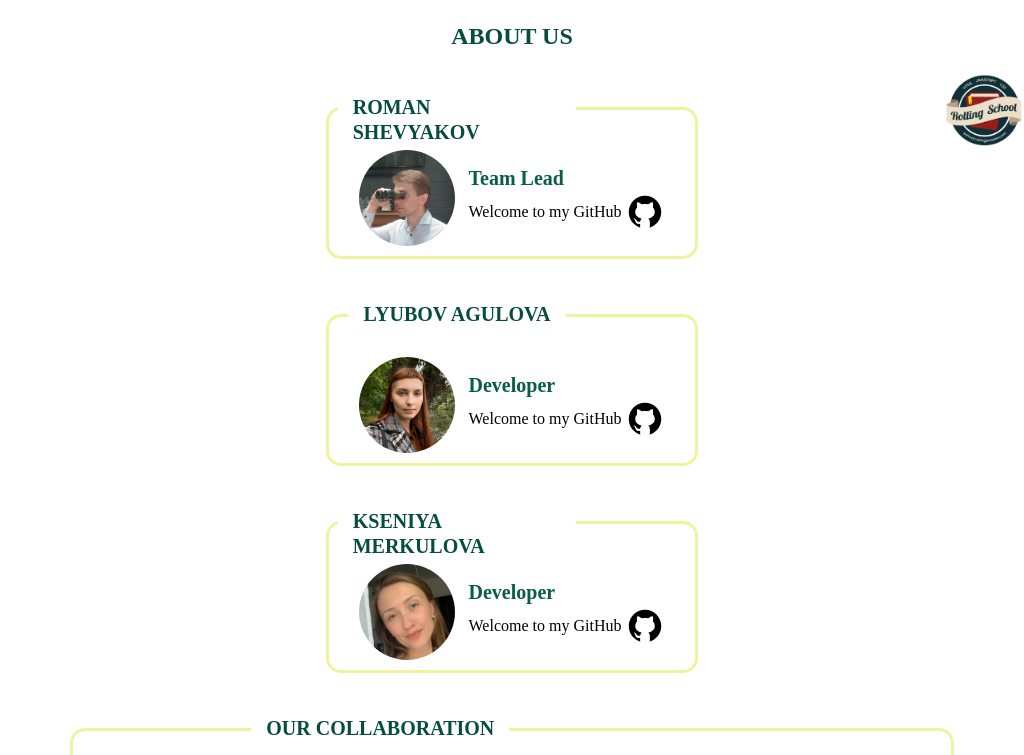
Test: AboutUs component: › should open popup
Click the picture with alt text "Lyubov Agulova" at coordinates (406, 405), box x1=358 y1=357 x2=454 y2=453
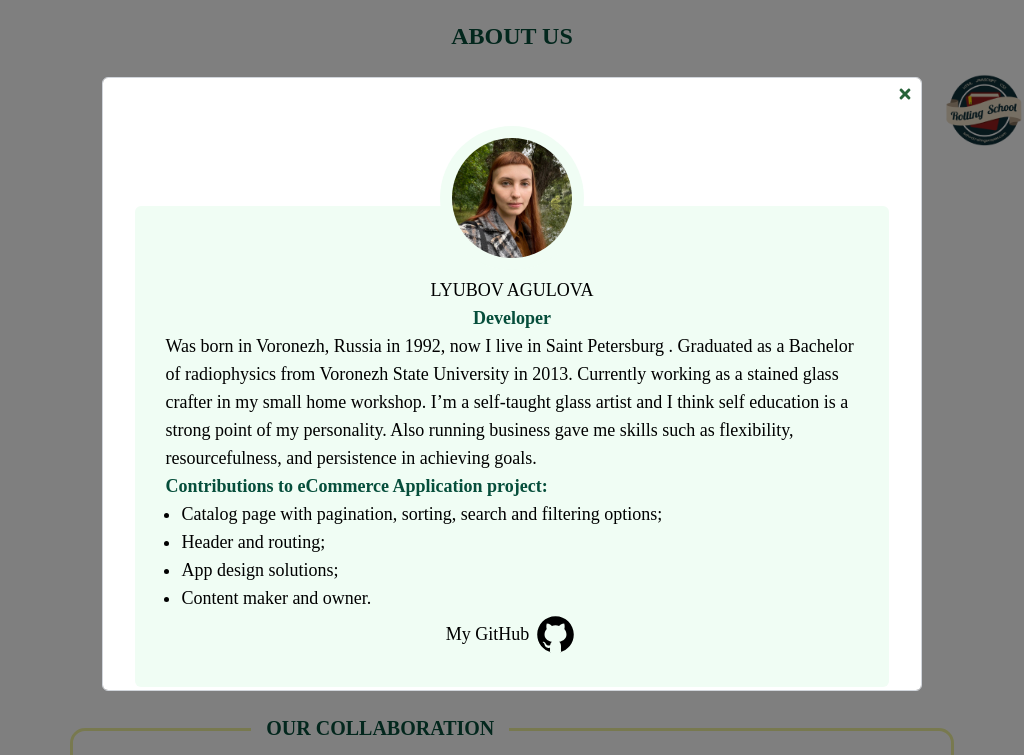
Expected: the text "Contributions to eCommerce Application project:" is shown, x1=165 y1=476 x2=548 y2=496
